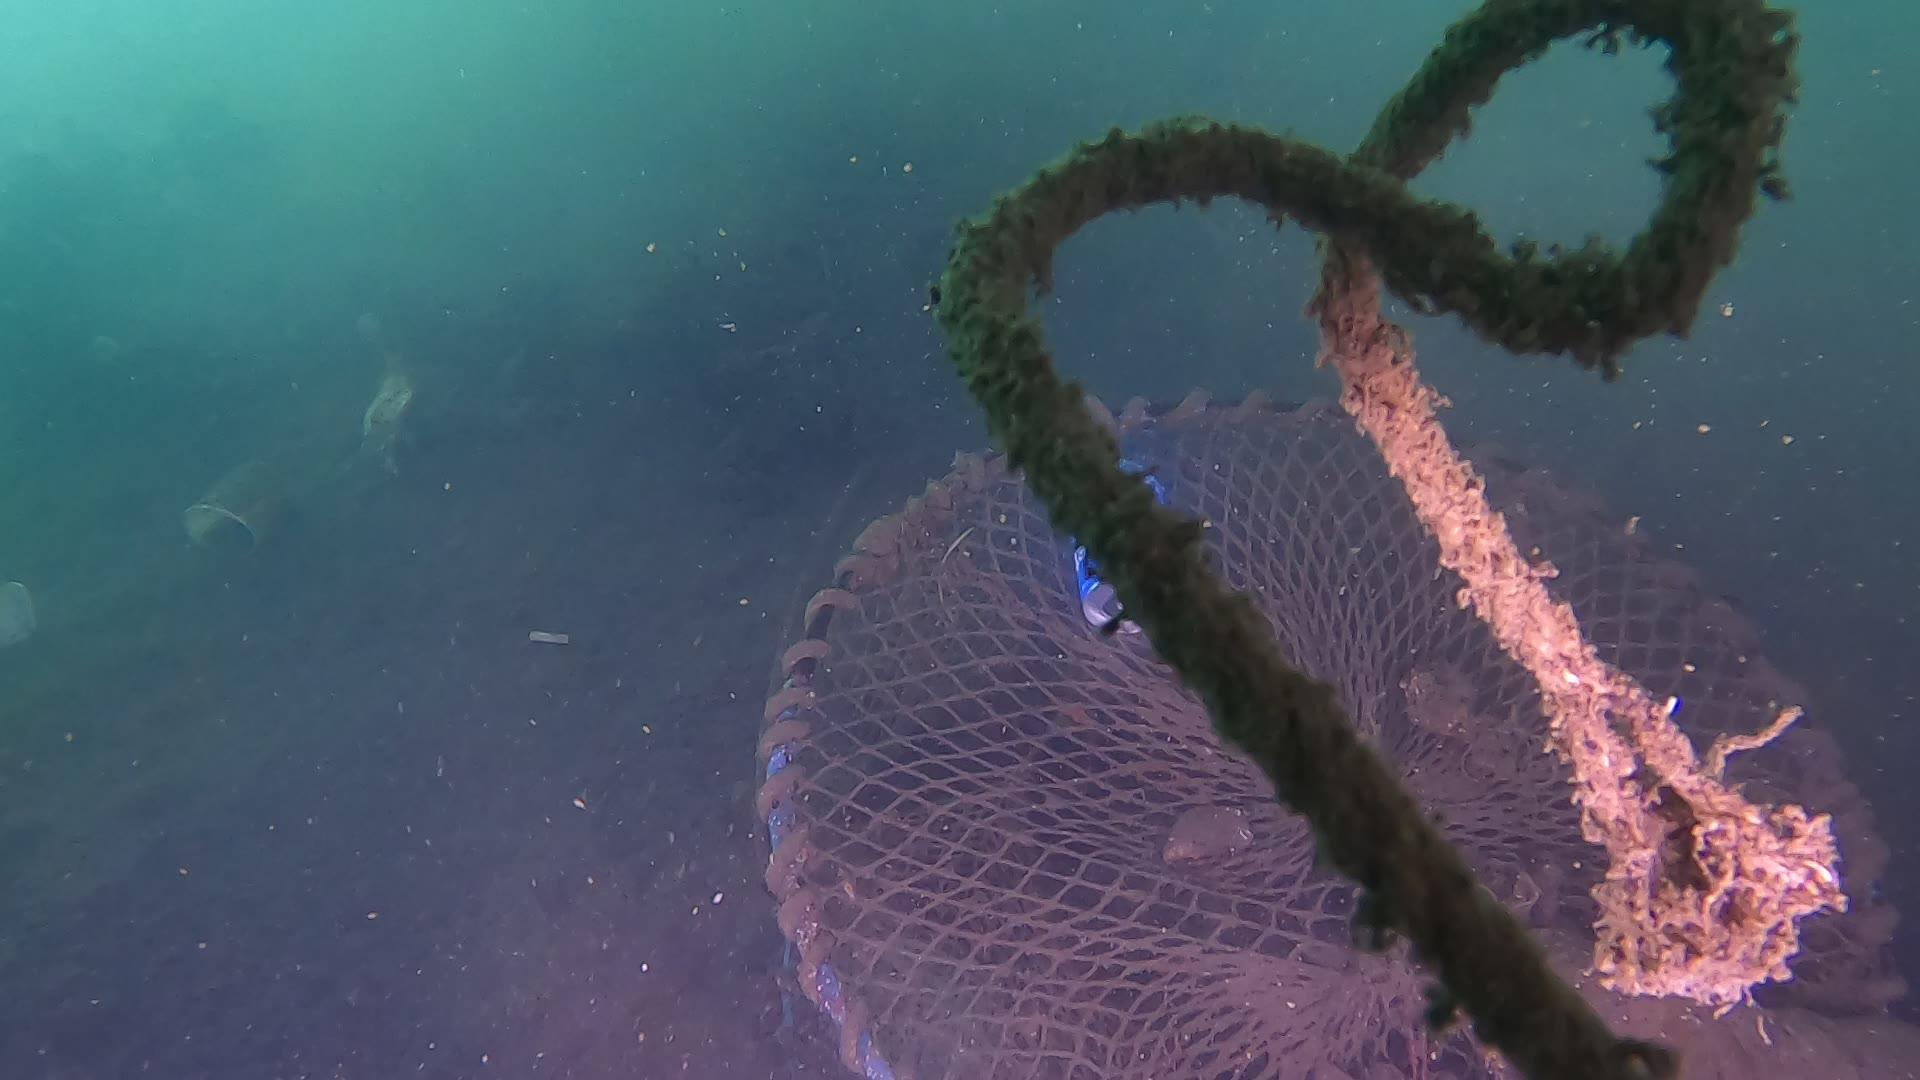bundle of ropes: (918, 1, 1807, 1080)
circular fish trap: (750, 377, 1912, 1080)
